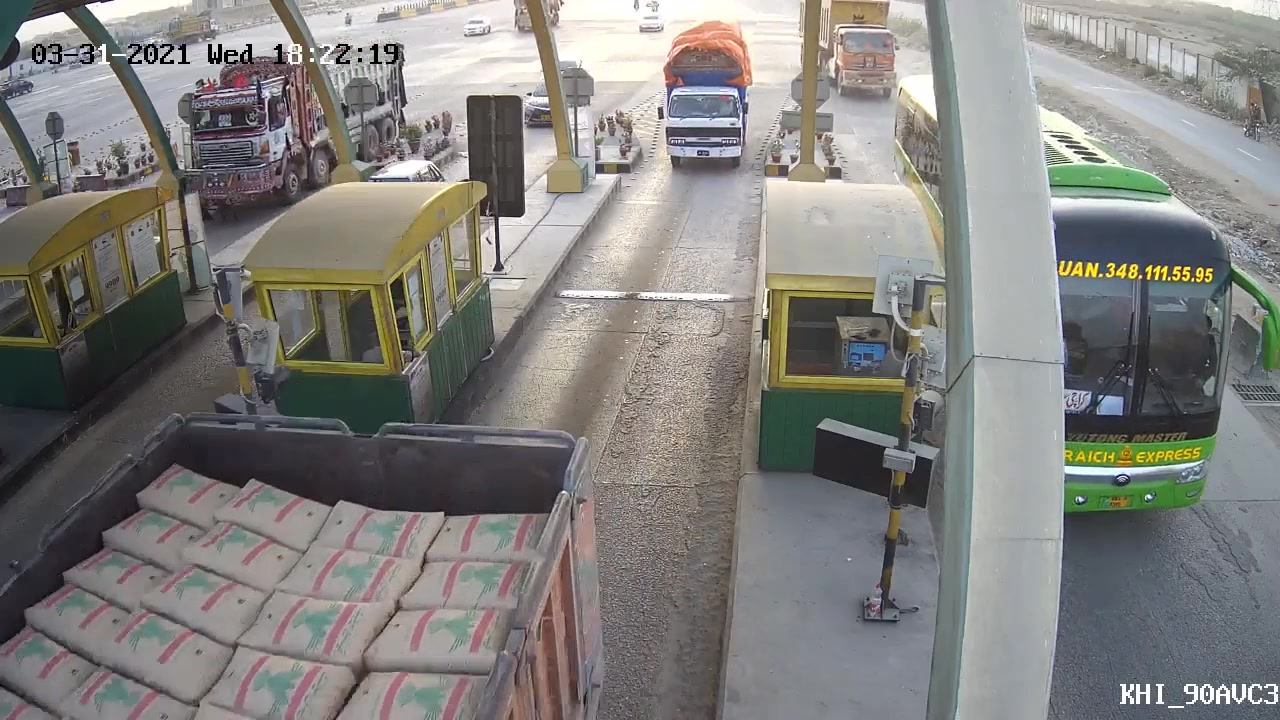F5: (647, 57, 762, 171)
